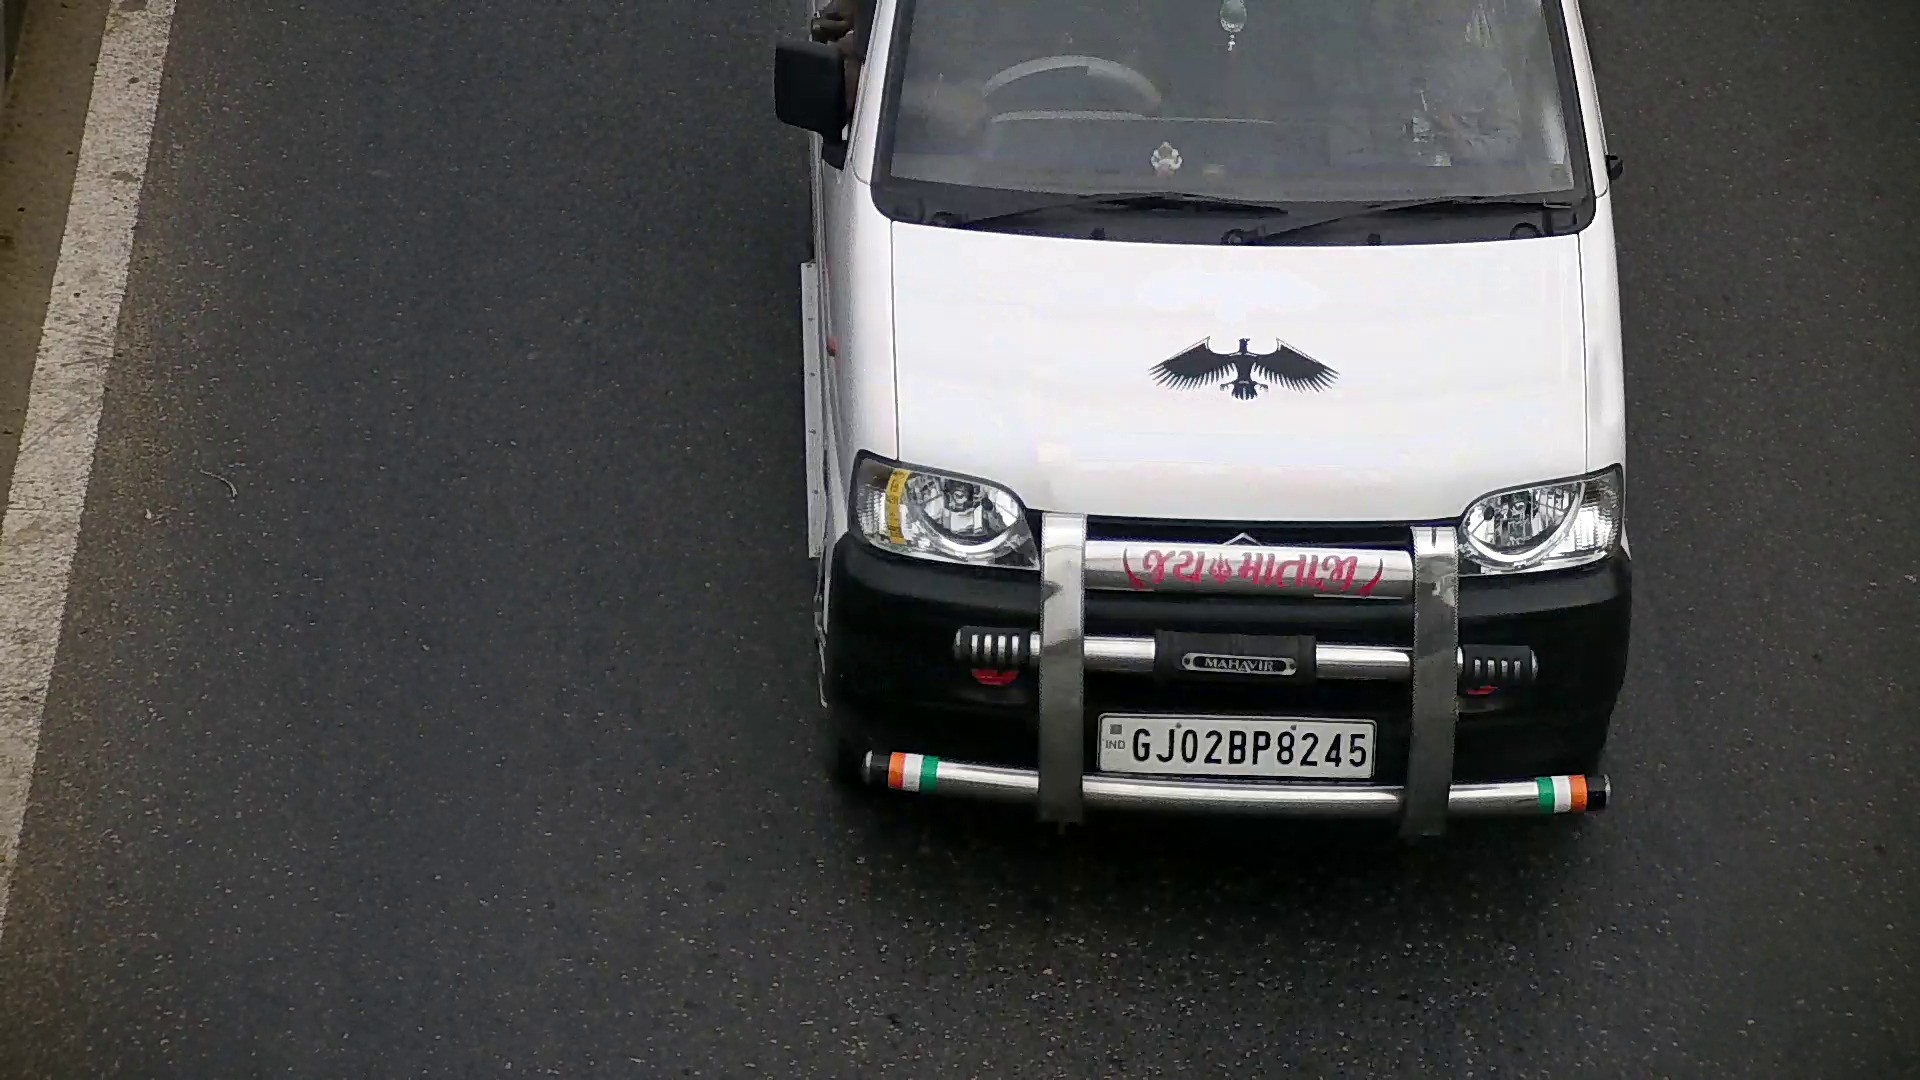numberplate: (1095, 713, 1378, 780)
